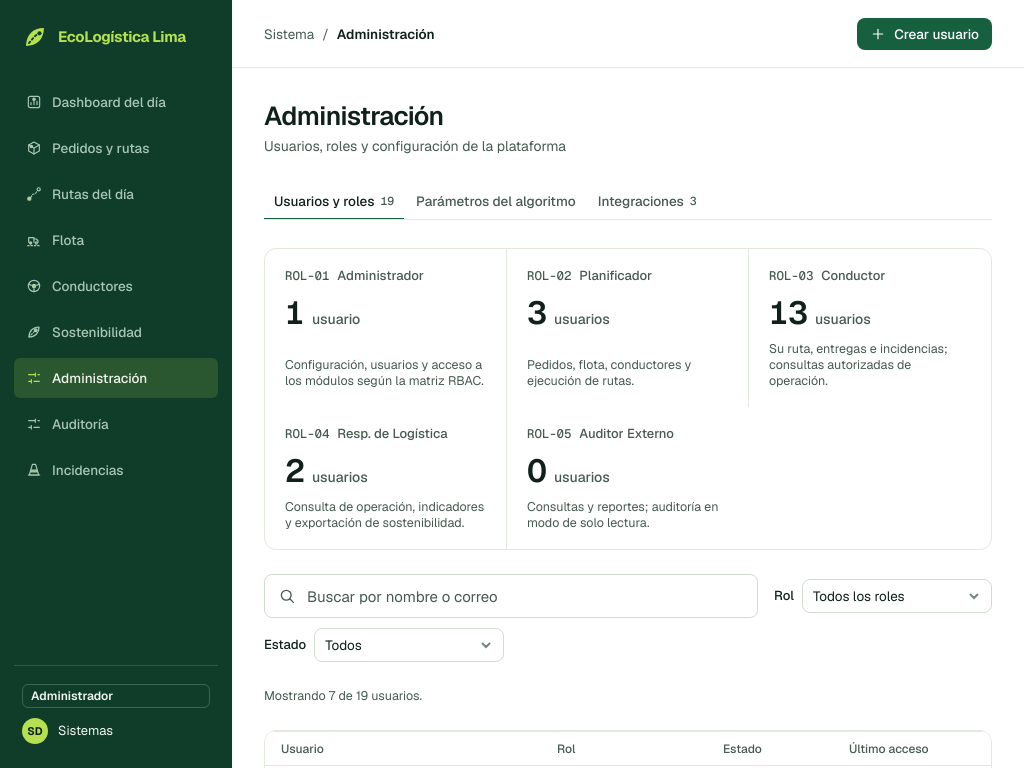
AdminView · parámetros del algoritmo › los factores de emisión son editables y GNV y eléctrico quedan «por definir»
Click the tab "Parámetros del algoritmo".
click(496, 202)  # box [406,184,586,220]
(page scrolled)
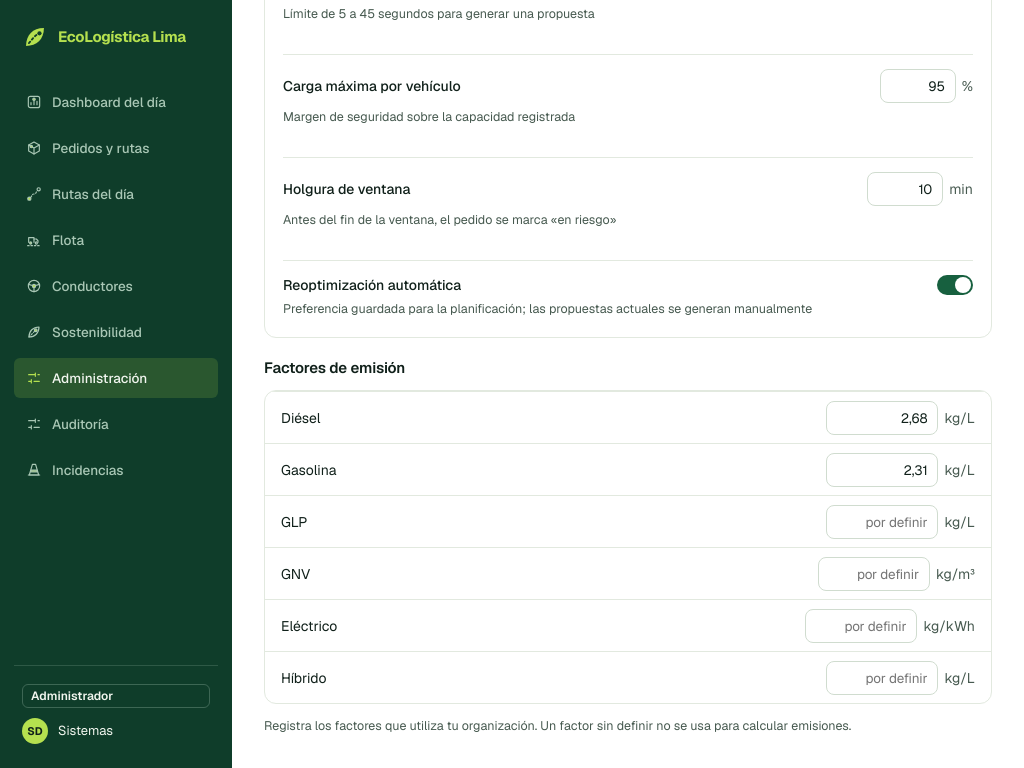
Now the field labelled "Diésel" holds "2,68", box [826,400,938,434]
Now the field labelled "Gasolina" holds "2,31", box [826,452,938,486]
Now the field labelled "GNV" is empty, box [818,556,930,590]
